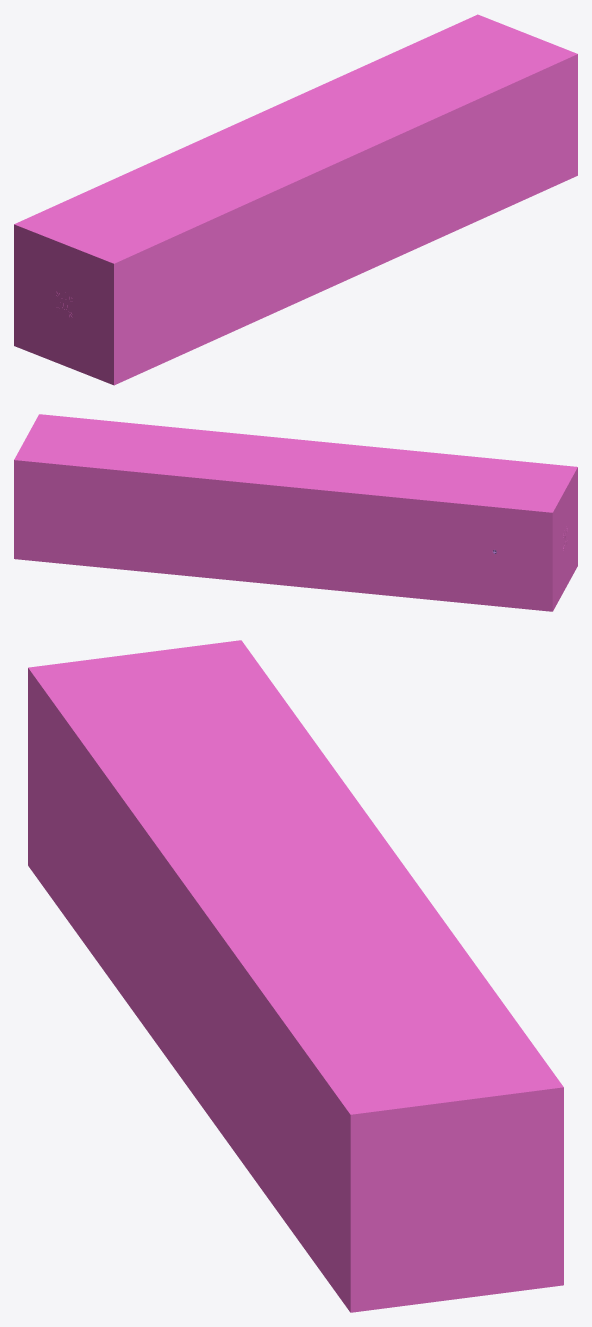
File: tile_465.glb
3 renders of one model, top to bottom at view 1: azimuth 30°, elevation 25°; view 2: azimuth 150°, elevation 25°; view 3: azimuth 270°, elevation 25°, orthographic. The views are drawn at different scales.
Bounding box in the file's own units: 12.34 × 2.4 × 5.89.
